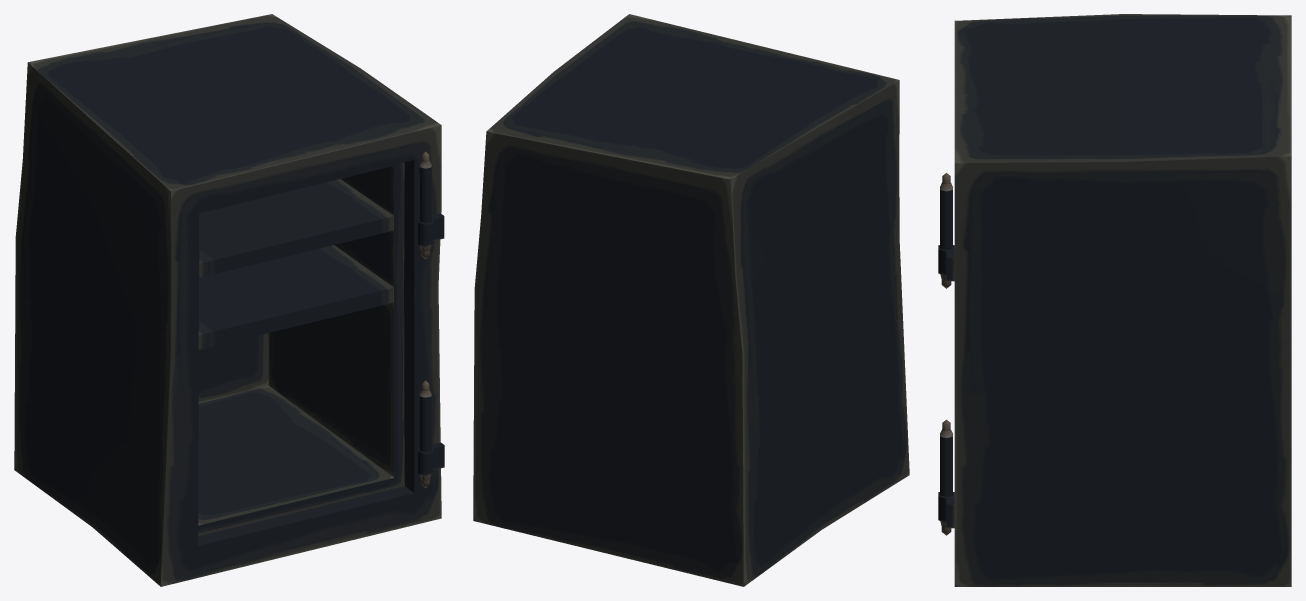
File: SM_PROP_safe_interior.fbx
3 views of the same model, side by side, from view 1: azimuth 30°, elevation 25°; view 2: azimuth 150°, elevation 25°; view 3: azimuth 270°, elevation 25° (orthographic). The views are drawn at different scales.
Parts seen in each view (by area): view 1: SM_PROP_safe_interior; view 2: SM_PROP_safe_interior; view 3: SM_PROP_safe_interior.
Boxes of the visible parts, x1,y1,x2,y2 form: SM_PROP_safe_interior: [14, 14, 444, 586]; SM_PROP_safe_interior: [473, 14, 909, 586]; SM_PROP_safe_interior: [938, 14, 1291, 586].
Bounding box in the file's own units: 64.18 × 88.36 × 64.87.
